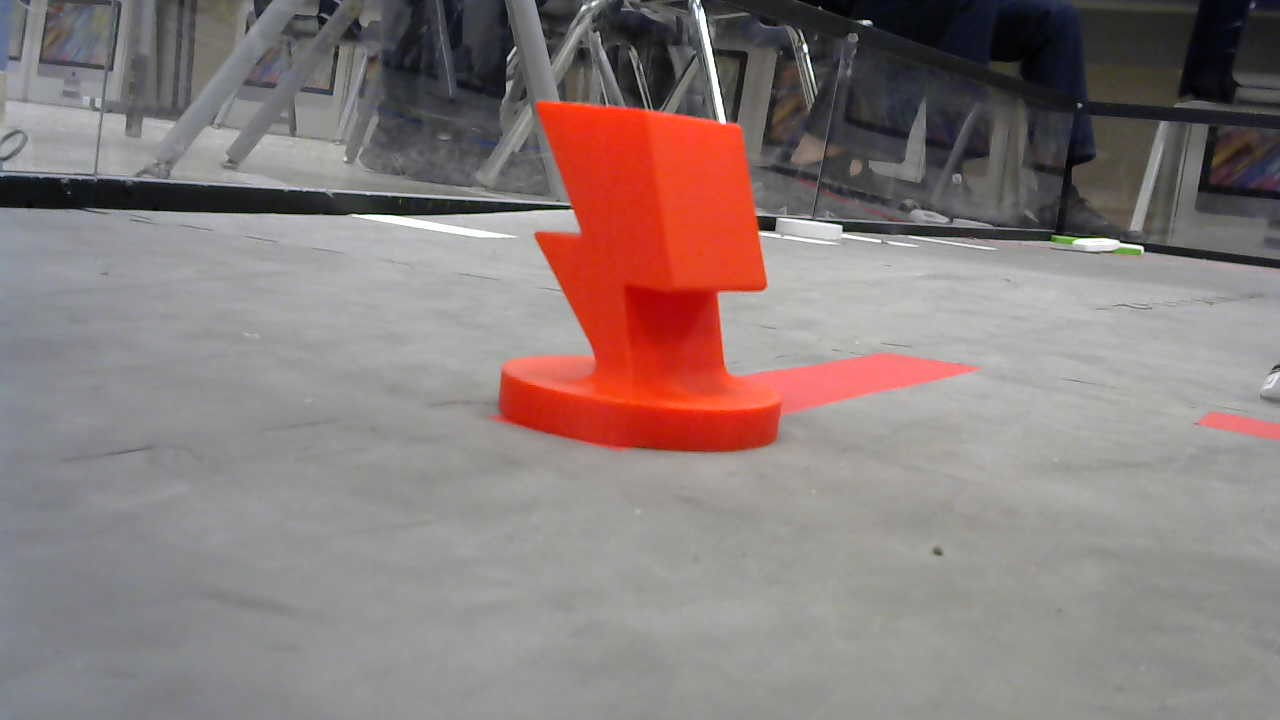redobject: (493, 98, 785, 453)
